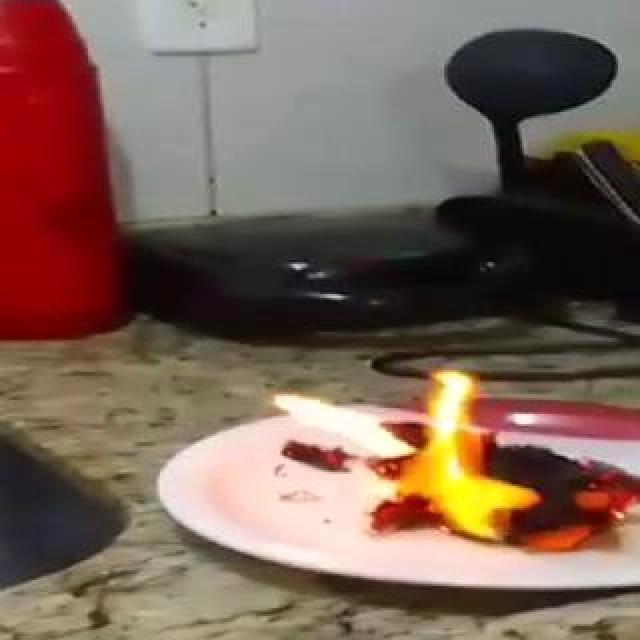fire: (360, 356, 640, 558)
